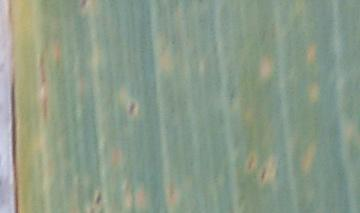tarspot: (243, 153, 255, 171), (126, 99, 137, 117), (257, 166, 267, 183), (93, 190, 102, 204), (169, 38, 177, 45), (79, 1, 86, 8)
